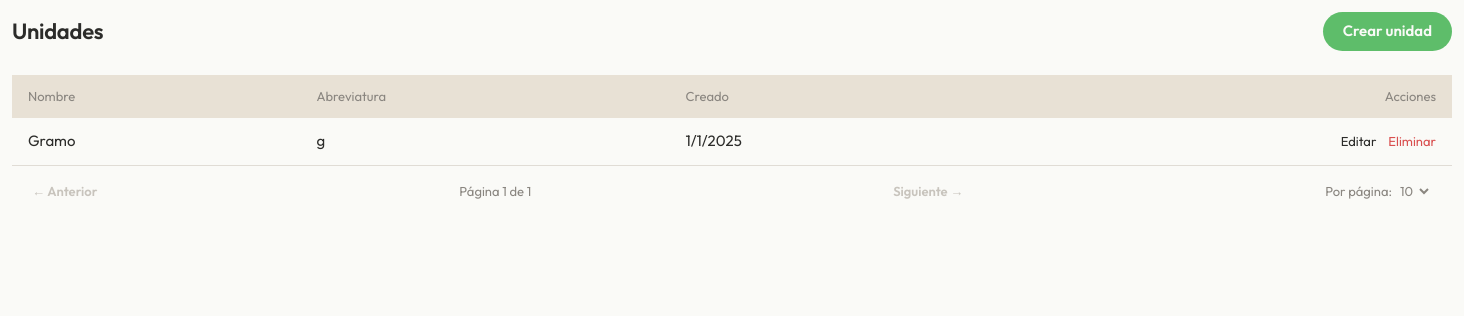
AdminUnitsPage › delete shows ConfirmDialog
Expected: the text "Gramo" is shown, left=12, top=118, right=300, bottom=165
Step 1. Click the button "Eliminar" → (1412, 141), box left=1388, top=132, right=1436, bottom=151
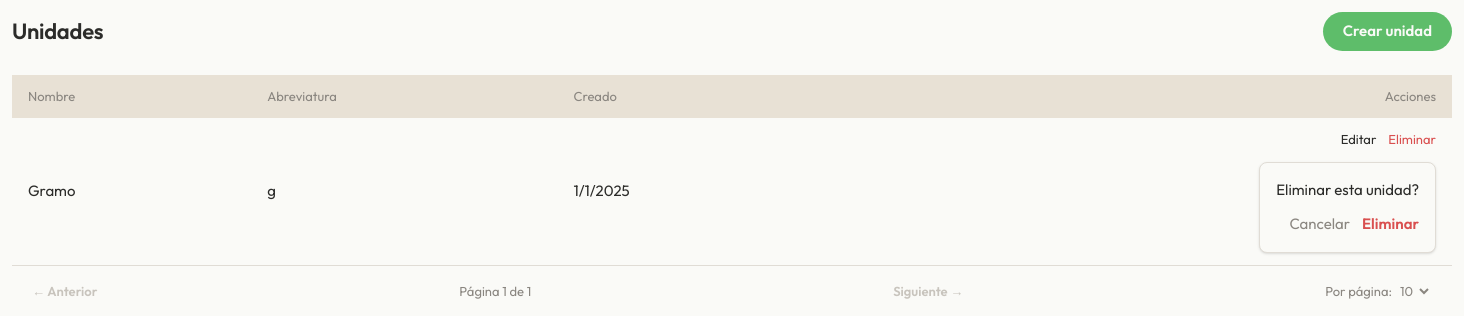
Result: the text "Eliminar esta unidad?" is shown at left=1276, top=178, right=1419, bottom=201
